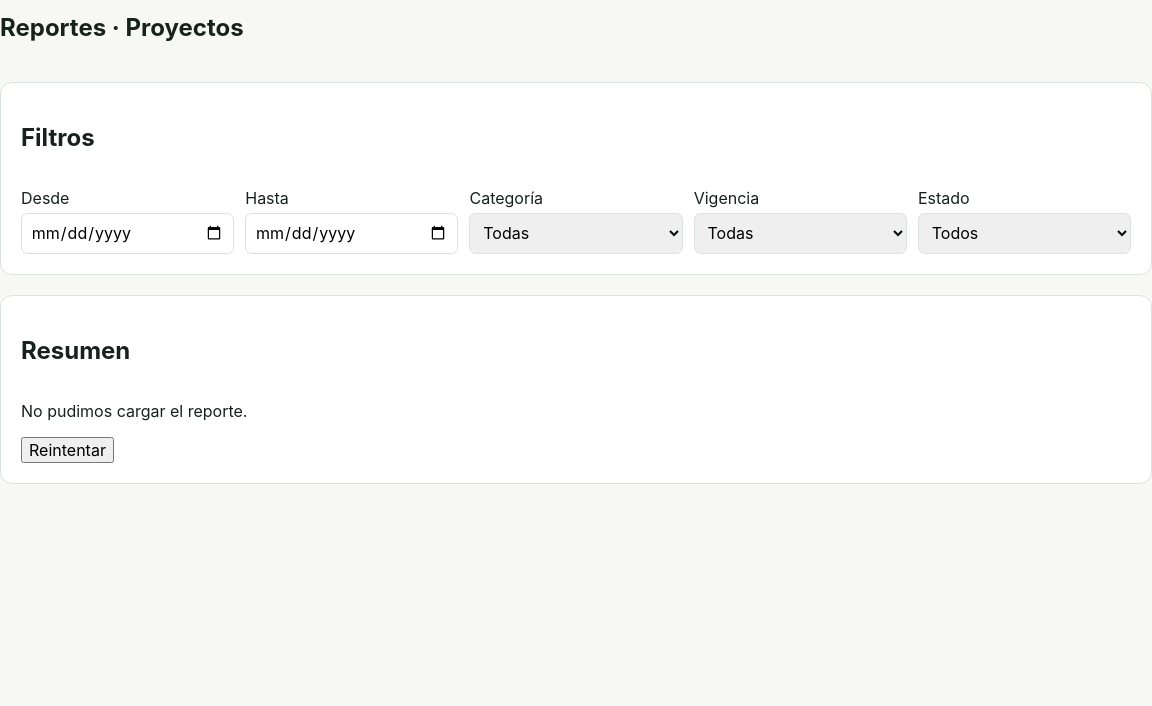
it: ProjectReportsPage › handles report errors with retry without fake metrics
Expected: the text "No pudimos cargar el reporte." is shown, [21,401,248,421]
Expected: the text "3.25" is not shown
Click the button "Reintentar": (67, 450) [21,437,114,463]
(page scrolled)
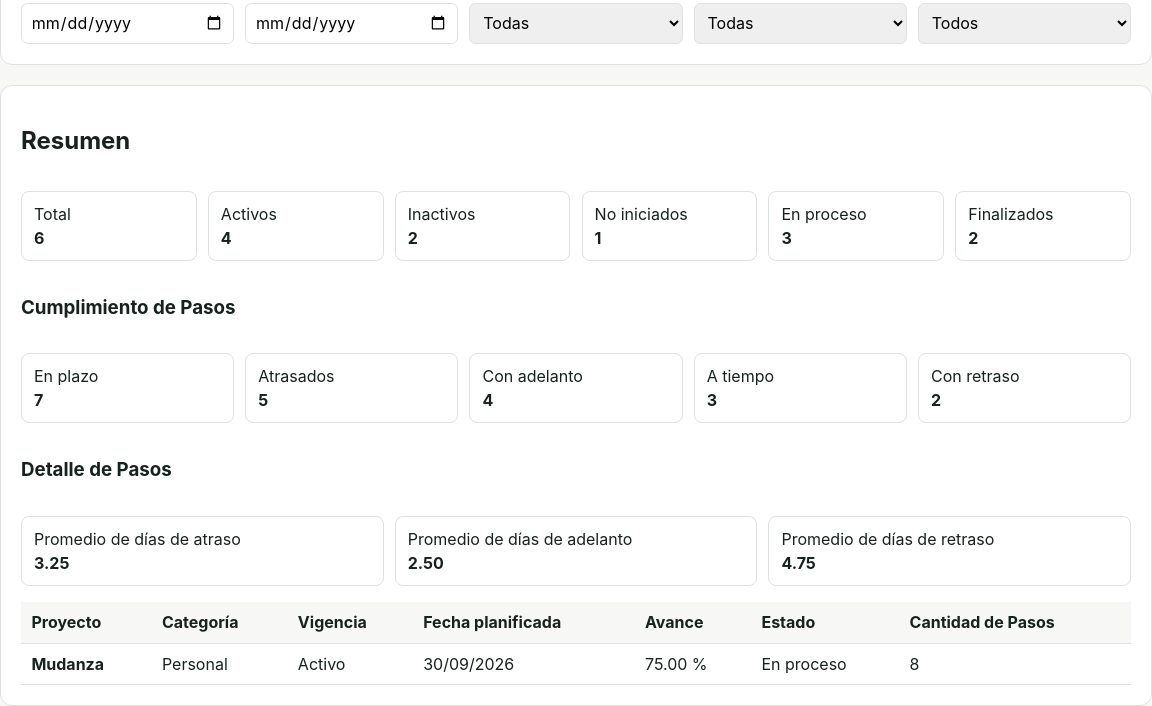
Now the text "3.25" is shown, box [34,553,69,573]
